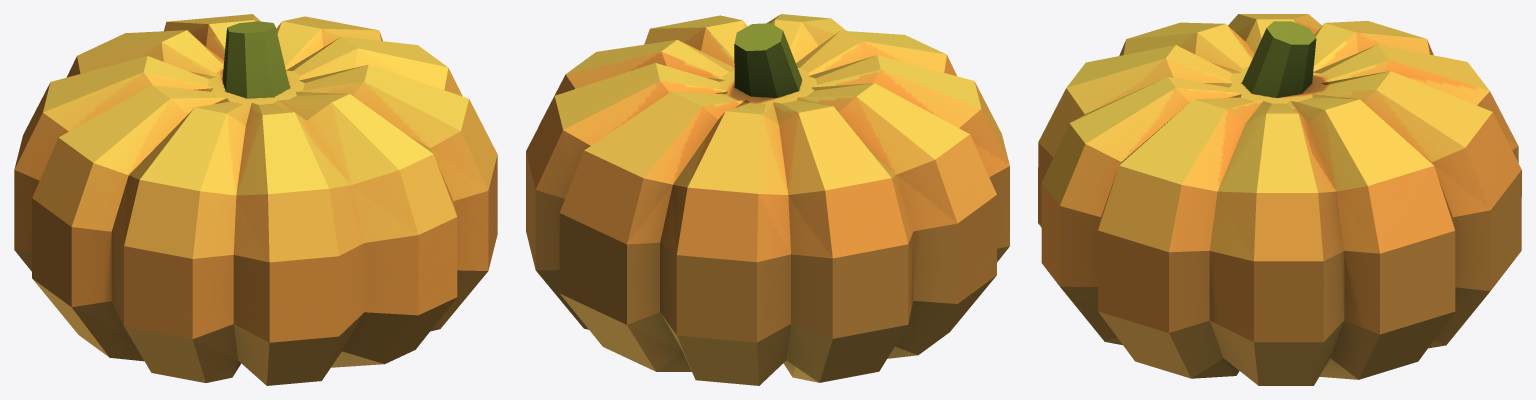
The model's file is PUSHILIN_pumpkin.obj.
The picture shows the model from 3 angles, left to right: view 1: azimuth 30°, elevation 25°; view 2: azimuth 150°, elevation 25°; view 3: azimuth 270°, elevation 25°; orthographic projection.
Visible parts, largest first — view 1: pumpkin; view 2: pumpkin; view 3: pumpkin.
Part boxes in pixels (<box>): pumpkin: <box>14,14,497,385</box>; pumpkin: <box>526,14,1009,385</box>; pumpkin: <box>1038,14,1521,385</box>.
Size of the model in its own units: 1.65 by 1.19 by 1.66.
Materials: 1 (1 with a texture image).
